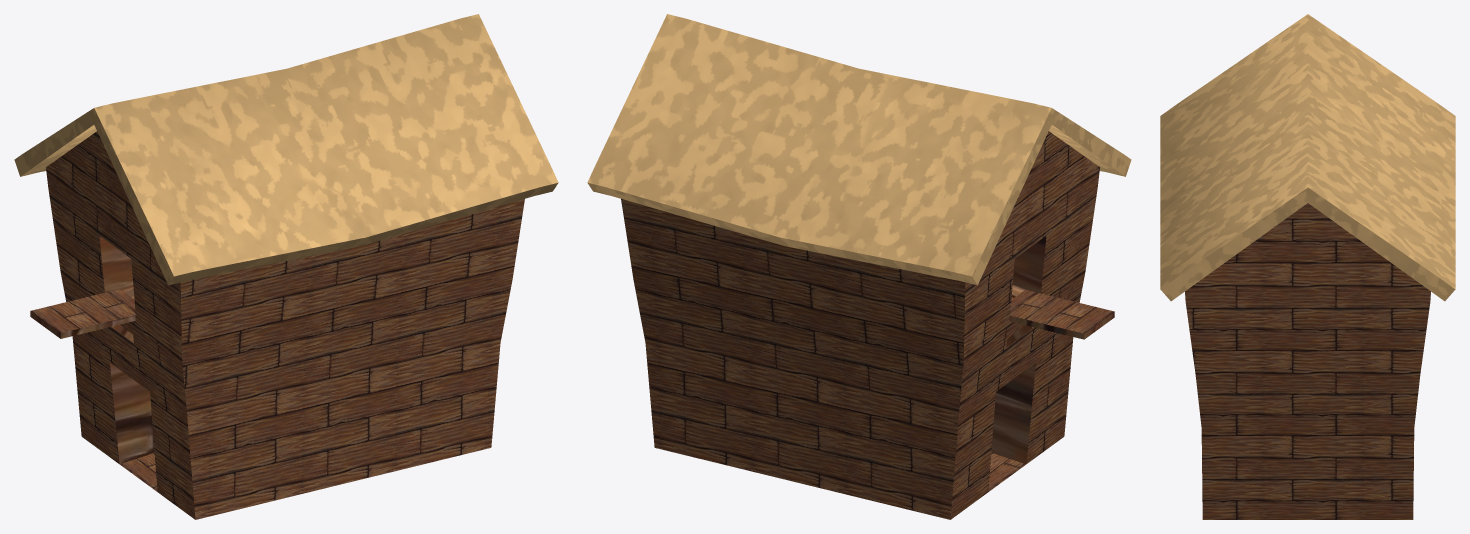
File: Pajar_FBX.FBX
3 views of the same model, side by side, from view 1: azimuth 30°, elevation 25°; view 2: azimuth 150°, elevation 25°; view 3: azimuth 270°, elevation 25° (orthographic). The views are drawn at different scales.
Visible parts, largest first — view 1: Box013, Tejado; view 2: Box013, Tejado; view 3: Box013, Tejado.
Part boxes in pixels (left/top/right/bottom): Box013: left=30, top=131, right=524, bottom=519; Tejado: left=14, top=14, right=558, bottom=285; Box013: left=621, top=131, right=1114, bottom=519; Tejado: left=587, top=14, right=1131, bottom=285; Box013: left=1185, top=203, right=1430, bottom=519; Tejado: left=1160, top=14, right=1455, bottom=301.
Bounding box in the file's own units: 6.97 × 5.87 × 4.45.
Materials: 2 (2 with a texture image).
